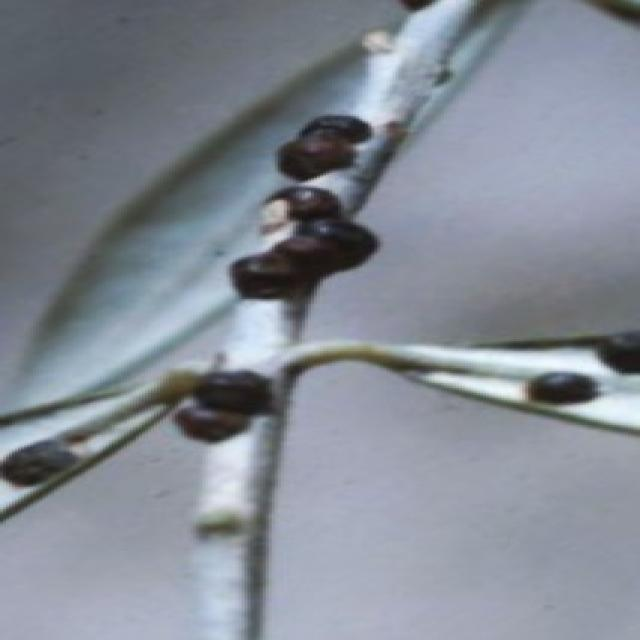Black Scale: (226, 186, 377, 299), (172, 370, 269, 442), (278, 114, 371, 180), (0, 440, 78, 485), (522, 371, 601, 405)
